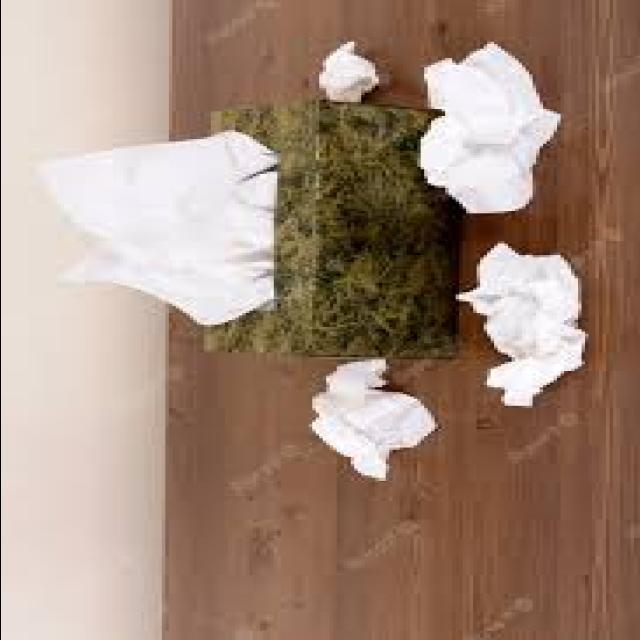tissue: (40, 131, 277, 324), (419, 42, 559, 212), (454, 244, 585, 406), (311, 359, 435, 480), (319, 41, 378, 102)
